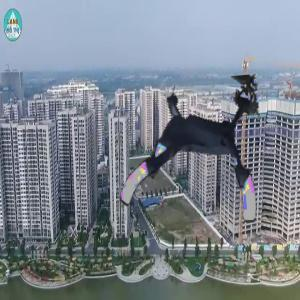drone: (115, 81, 266, 232)
